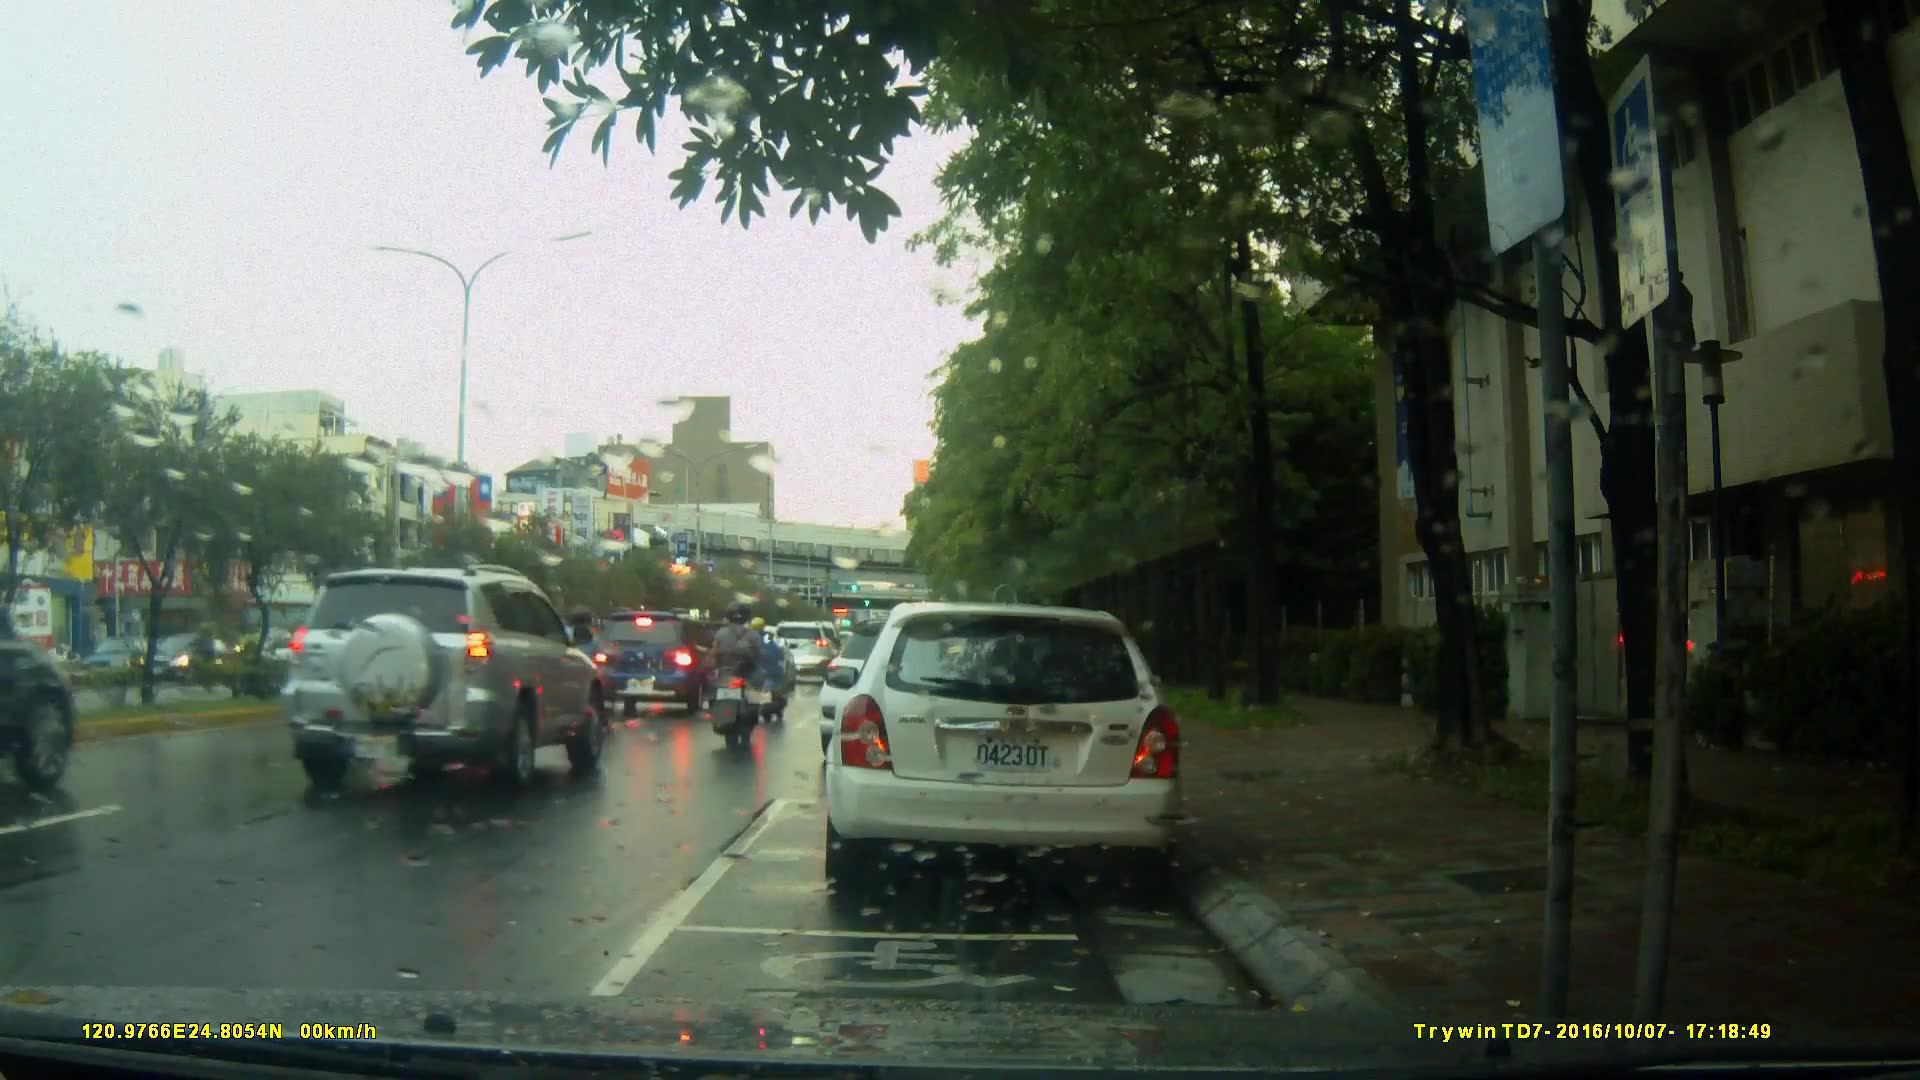rider: (709, 605, 775, 750), (739, 613, 783, 723)
vehicle: (820, 602, 1188, 898), (275, 560, 609, 794), (592, 608, 737, 715), (134, 634, 239, 689)
